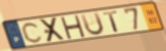7: (122, 6, 140, 32)
C: (20, 21, 44, 44)
H: (59, 14, 86, 39)
T: (102, 10, 120, 33)
U: (79, 11, 106, 37)
X: (39, 16, 67, 44)
